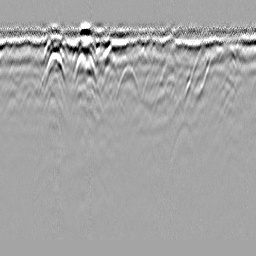cavity: (114, 62, 140, 103)
